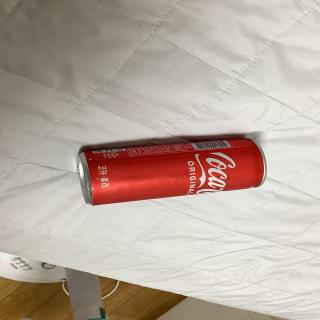cocacola: (76, 134, 270, 205)
